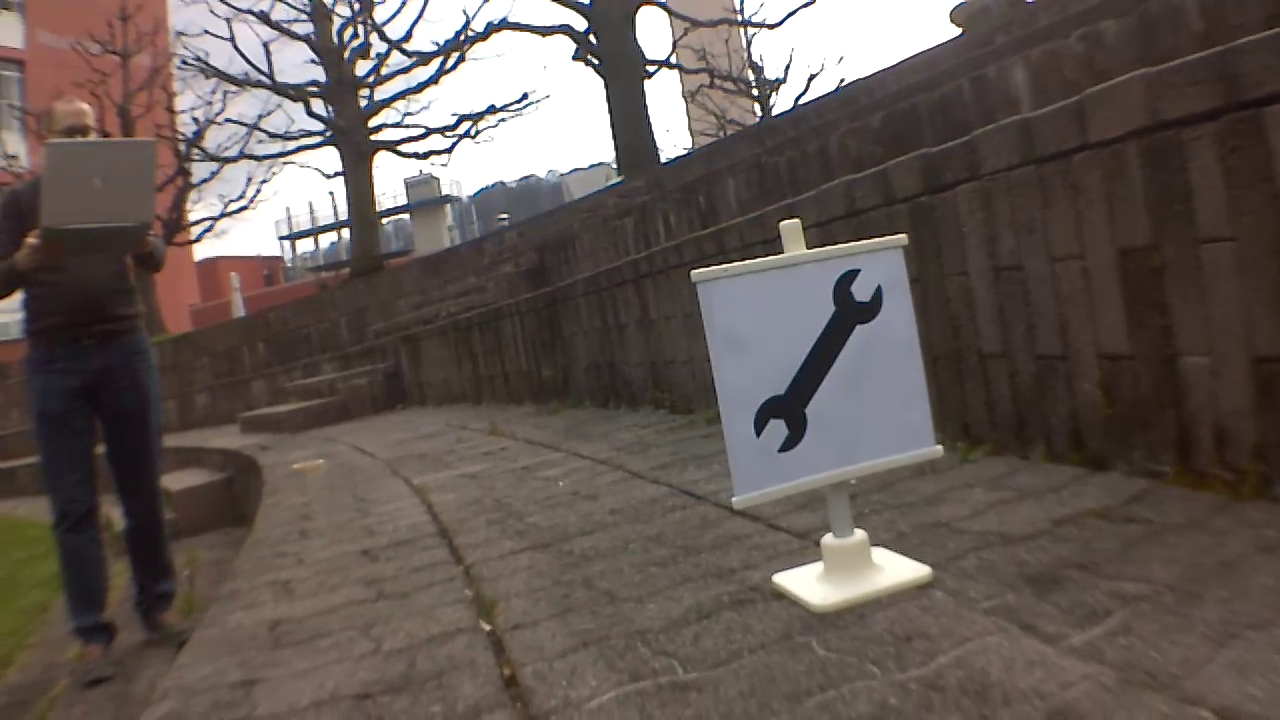wrench: (759, 266, 887, 456)
